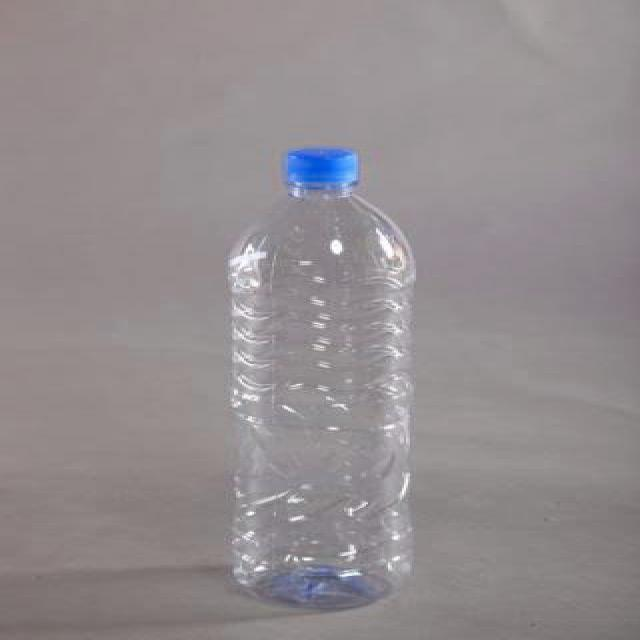bottle: (212, 142, 430, 616)
